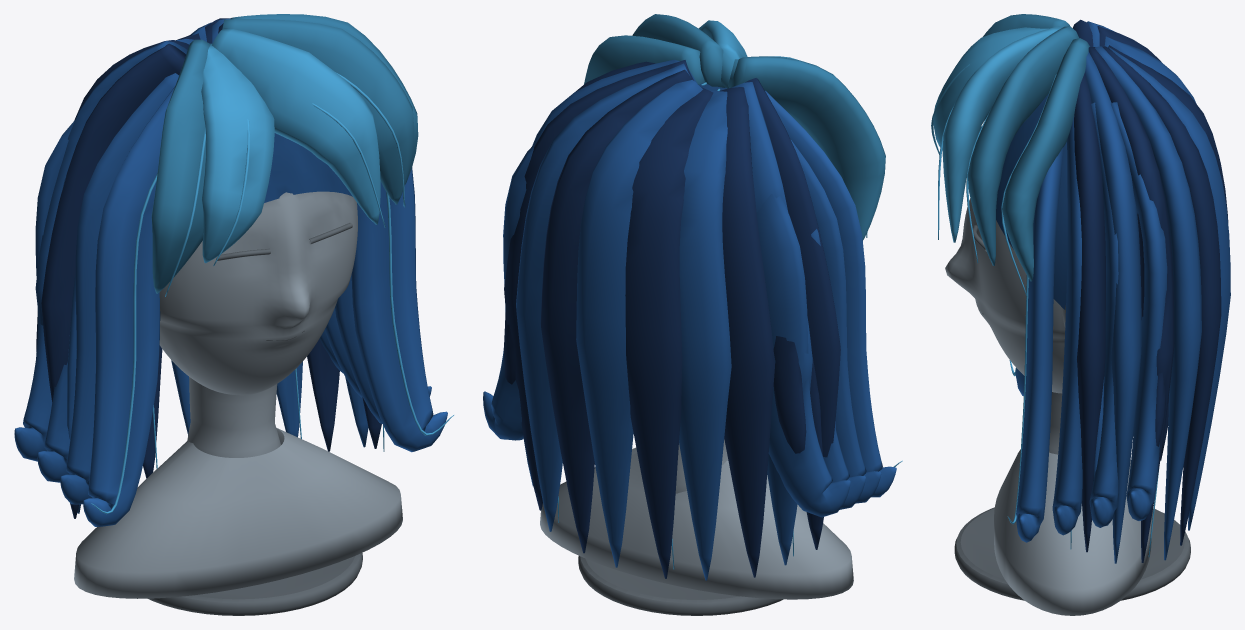
3 views of the same model, side by side, from view 1: azimuth 30°, elevation 25°; view 2: azimuth 150°, elevation 25°; view 3: azimuth 270°, elevation 25° (orthographic). The views are drawn at different scales.
Visible parts, largest first — view 1: Busto de referência · referencia, Mechas principais · mechas__luz, Mechas principais · mechas, Franja e luzes · franja, Franja e luzes · franja__mechas, Camadas profundas · camadas, Busto de referência · referencia__base, Franja e luzes · franja__nervuras, Mechas principais · mechas__sombra; view 2: Mechas principais · mechas, Camadas profundas · camadas, Busto de referência · referencia, Franja e luzes · franja__mechas, Mechas principais · mechas__luz, Busto de referência · referencia__base, Franja e luzes · franja; view 3: Mechas principais · mechas, Camadas profundas · camadas, Busto de referência · referencia, Franja e luzes · franja__mechas, Mechas principais · mechas__luz, Franja e luzes · franja, Busto de referência · referencia__base, Mechas principais · mechas__sombra, Franja e luzes · franja__nervuras.
Part boxes in pixels (x1,y1,x2,y2): Busto de referência · referencia: [74, 191, 402, 598]; Mechas principais · mechas__luz: [67, 87, 447, 526]; Mechas principais · mechas: [14, 18, 431, 513]; Franja e luzes · franja: [201, 28, 380, 263]; Franja e luzes · franja__mechas: [151, 14, 418, 293]; Camadas profundas · camadas: [36, 18, 381, 518]; Busto de referência · referencia__base: [148, 223, 362, 615]; Franja e luzes · franja__nervuras: [91, 72, 453, 513]; Mechas principais · mechas__sombra: [264, 133, 352, 202]; Mechas principais · mechas: [483, 59, 881, 580]; Camadas profundas · camadas: [503, 60, 840, 578]; Busto de referência · referencia: [540, 439, 853, 599]; Franja e luzes · franja__mechas: [584, 14, 885, 240]; Mechas principais · mechas__luz: [765, 90, 896, 497]; Busto de referência · referencia__base: [578, 556, 783, 615]; Franja e luzes · franja: [699, 20, 796, 88]; Mechas principais · mechas: [1052, 21, 1230, 563]; Camadas profundas · camadas: [1073, 19, 1228, 562]; Busto de referência · referencia: [945, 198, 1151, 615]; Franja e luzes · franja__mechas: [967, 14, 1089, 281]; Mechas principais · mechas__luz: [1015, 147, 1104, 542]; Franja e luzes · franja: [933, 26, 1061, 242]; Busto de referência · referencia__base: [954, 225, 1190, 600]; Mechas principais · mechas__sombra: [996, 94, 1067, 309]; Franja e luzes · franja__nervuras: [931, 64, 1159, 557].
Size of the model in its own units: 1.72 by 2.35 by 1.22.
